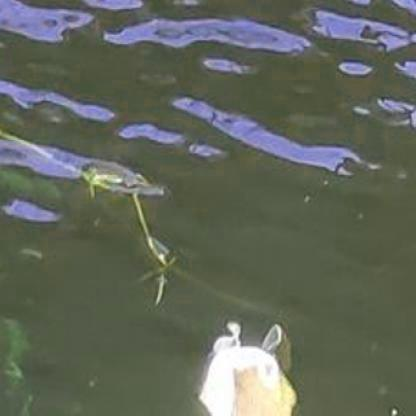Trash: (192, 317, 305, 416)
